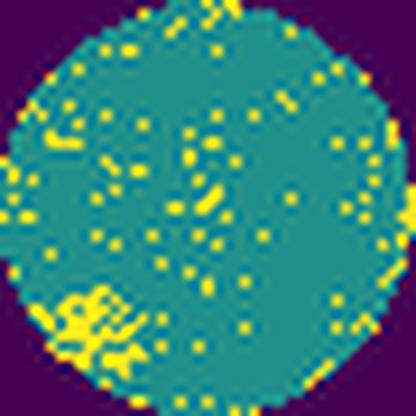Loc: (42, 280, 147, 369), (106, 346, 146, 377)
